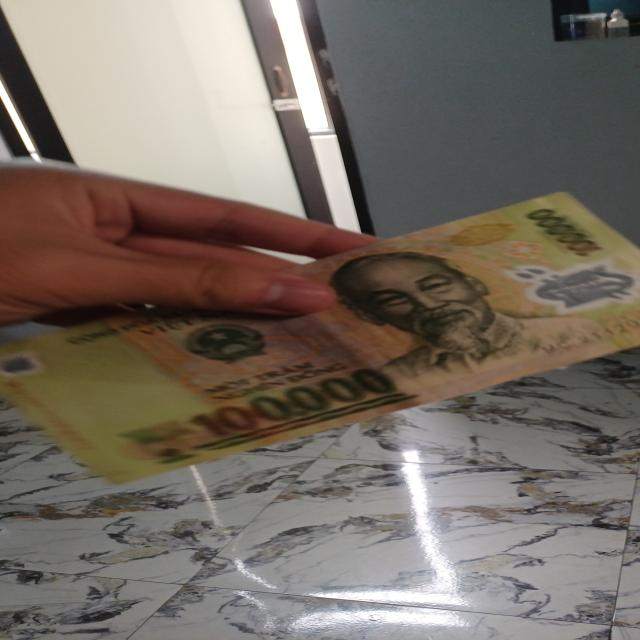100 000 VND: (0, 178, 640, 489)
